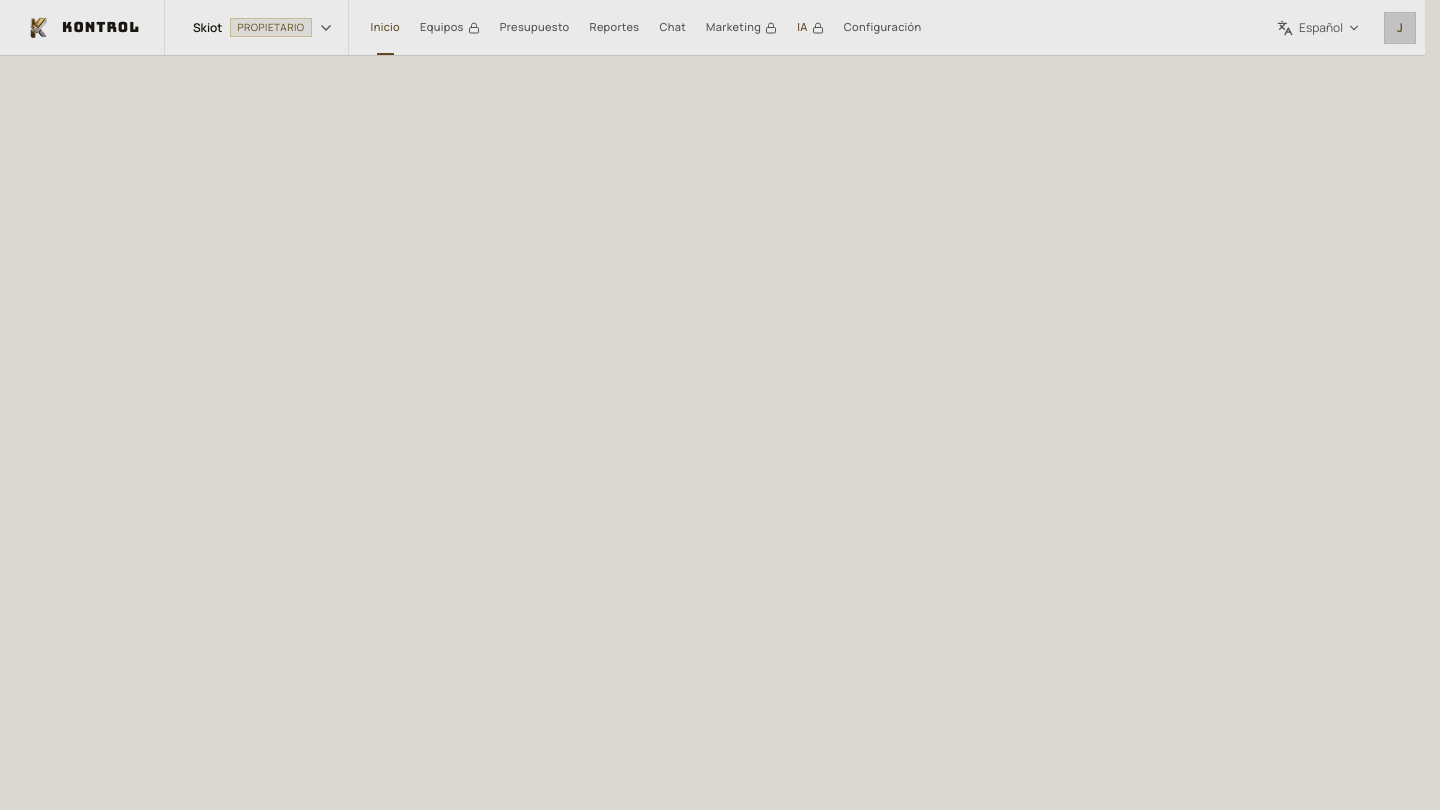
it: AppNavbar.vue — selector de empresa › click en el backdrop cierra el dropdown sin cambiar de empresa
Click the element with class "empresa-selector" at {"x": 263, "y": 28}, box [177, 0, 349, 55]
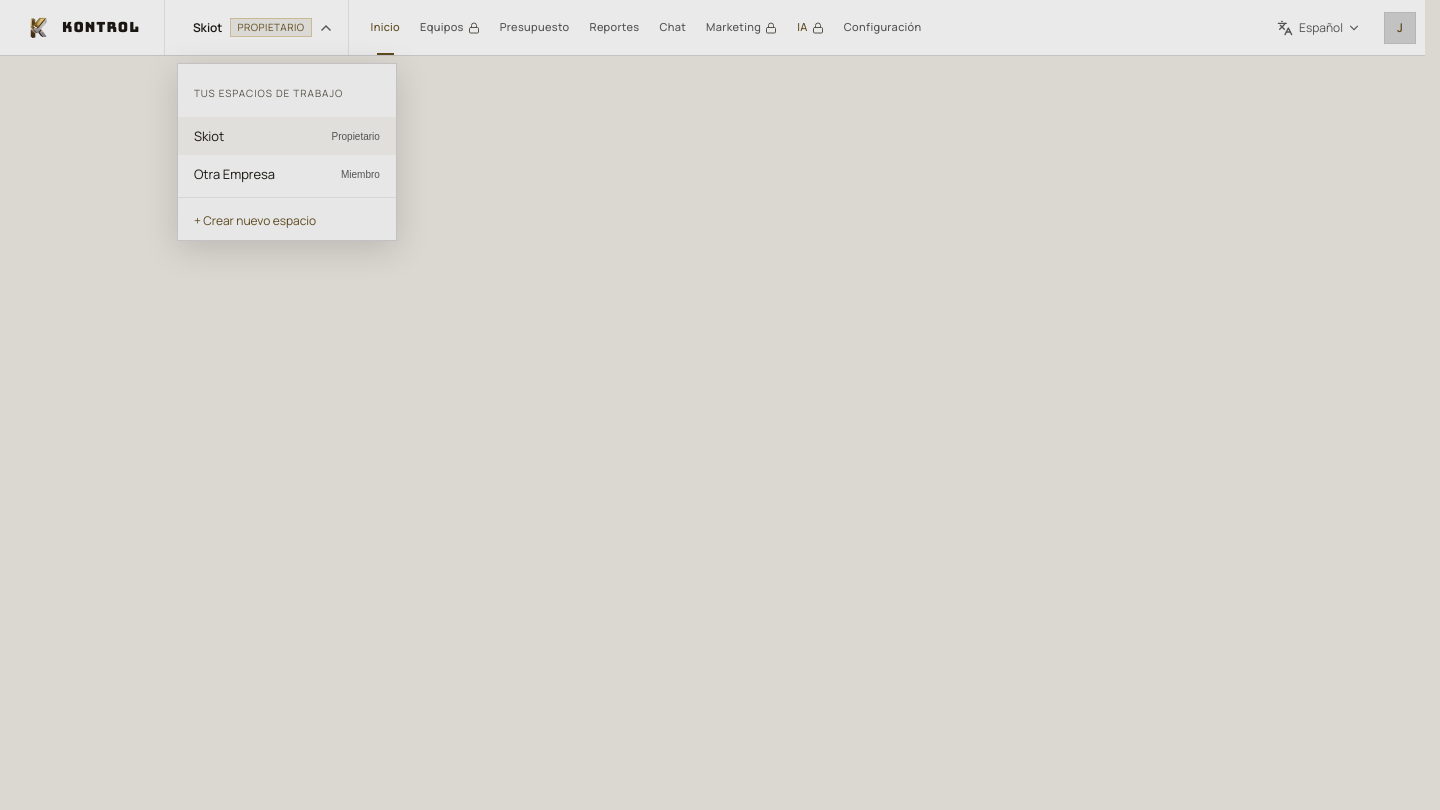
Click the element with class "empresa-backdrop" at {"x": 720, "y": 405}, box [0, 0, 1439, 809]
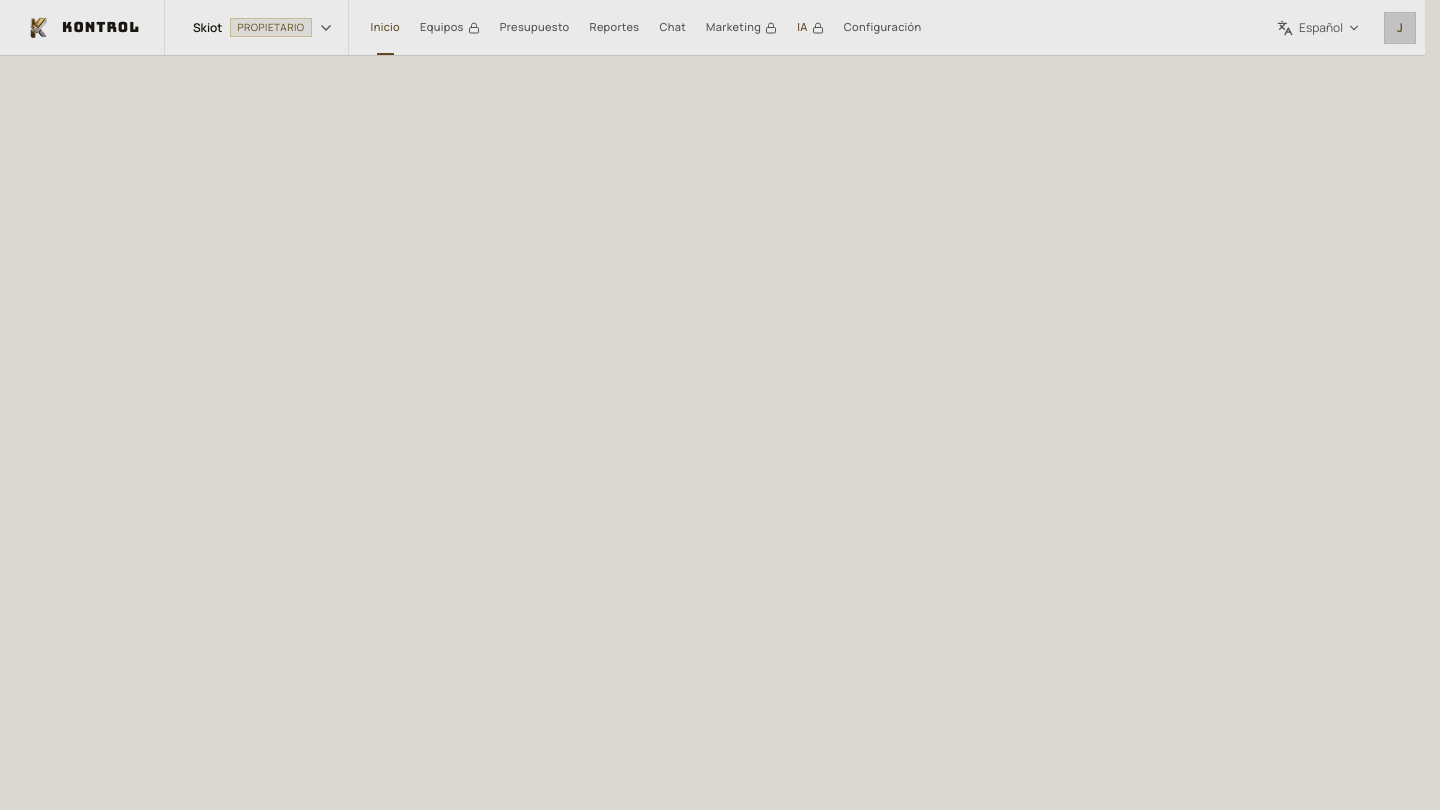
Expected: the element with class "empresa-dropdown" is gone
